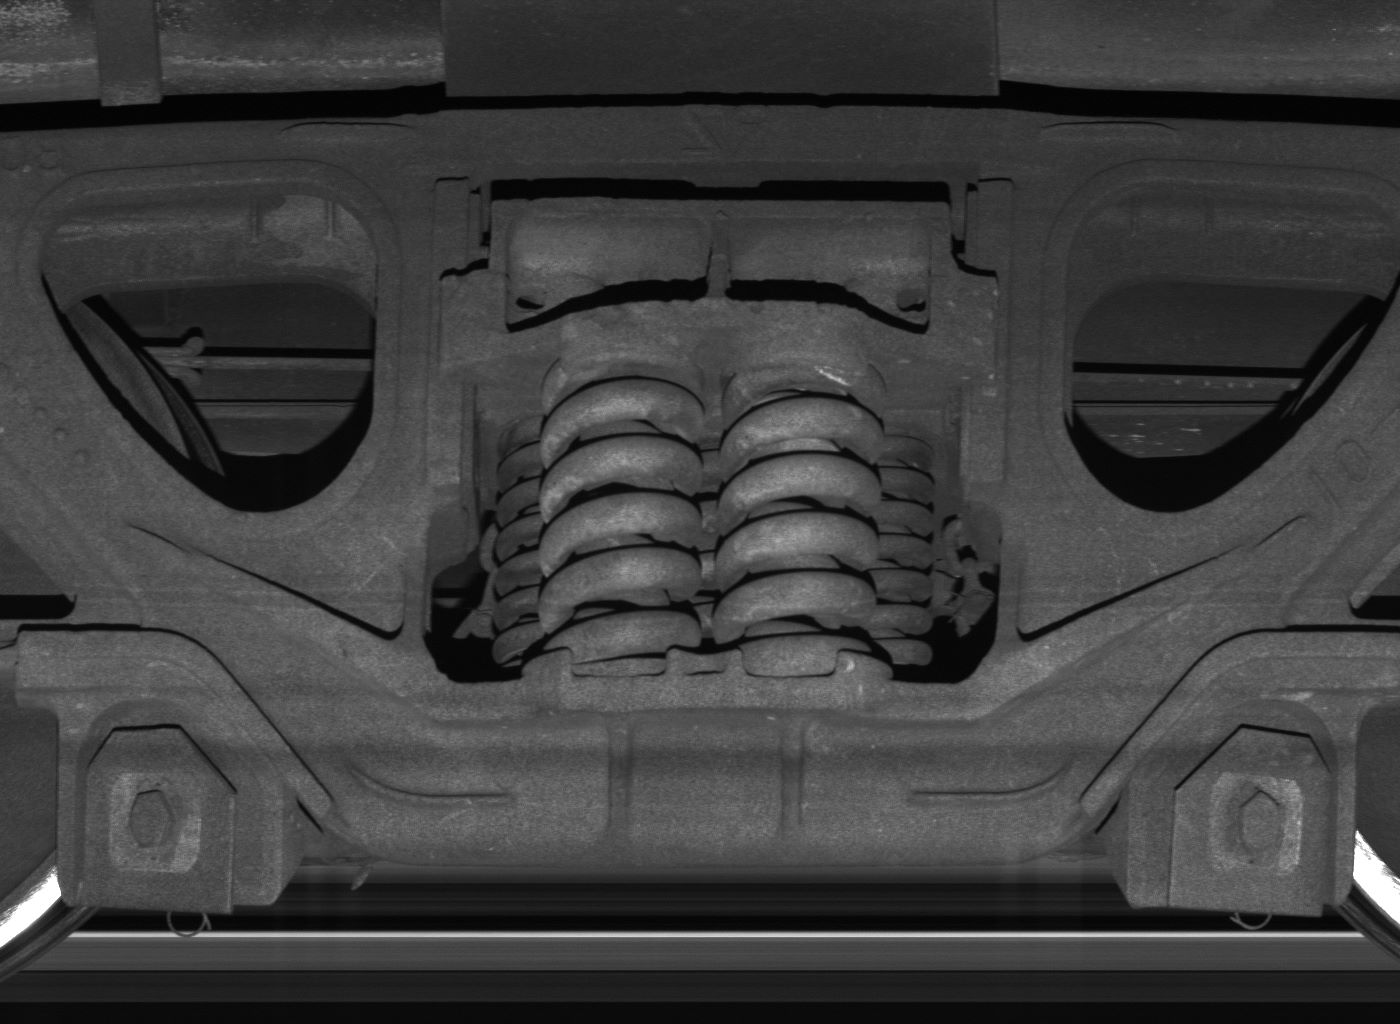Locking plate: (1121, 702, 1357, 917)
normal: (60, 699, 280, 914)
